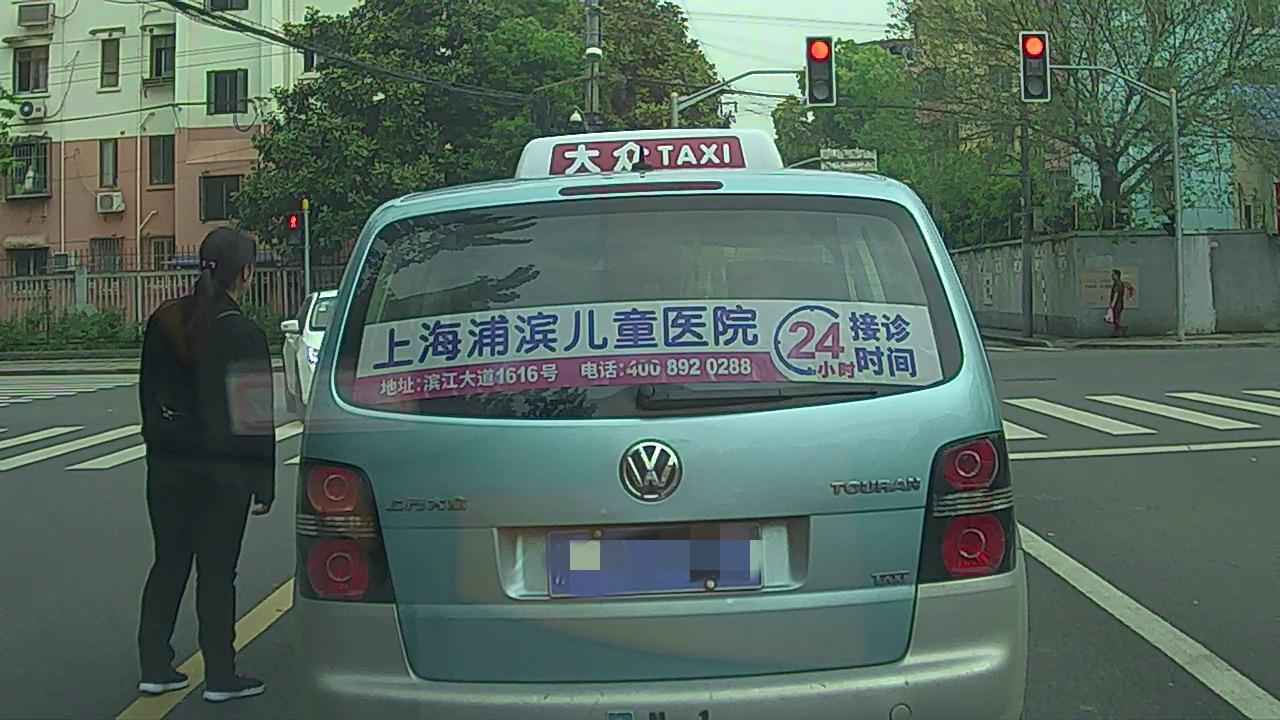traffic_light: (806, 38, 835, 103), (1023, 36, 1049, 100)
